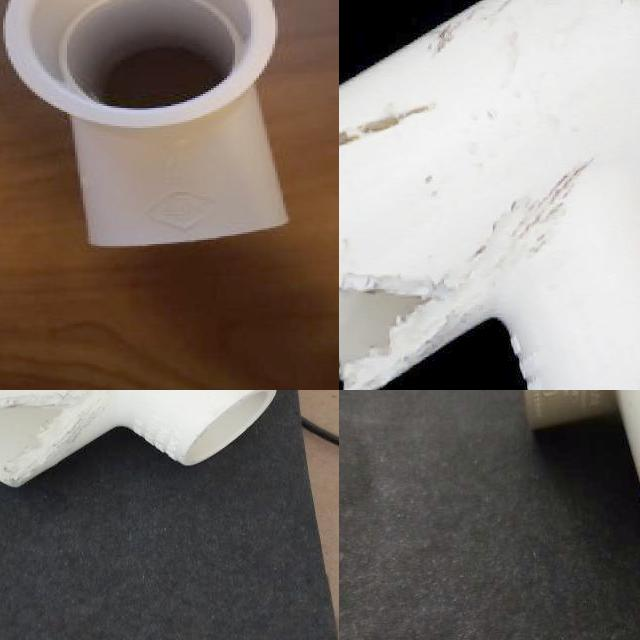Defective: (339, 233, 445, 390), (483, 166, 591, 272), (339, 106, 458, 180), (409, 0, 632, 36), (0, 399, 65, 452), (7, 460, 52, 487), (81, 390, 129, 408)
